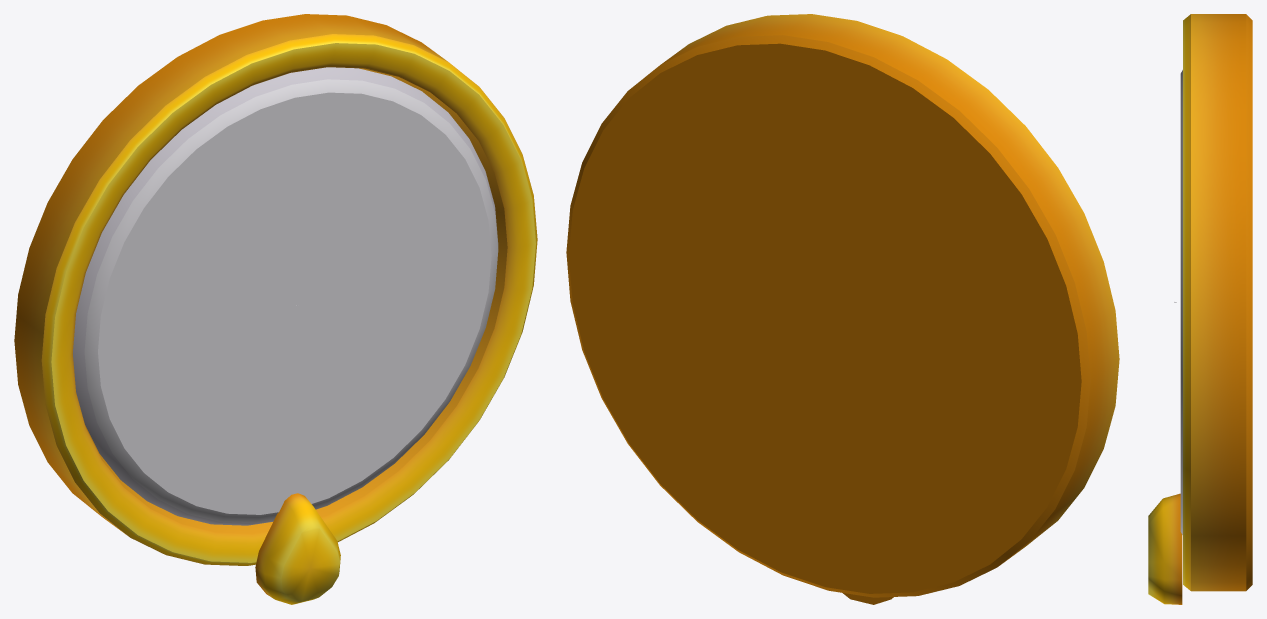
File: Dart_Board.fbx
3 views of the same model, side by side, from view 1: azimuth 30°, elevation 25°; view 2: azimuth 150°, elevation 25°; view 3: azimuth 270°, elevation 25° (orthographic). The views are drawn at different scales.
Visible parts, largest first — view 1: Dart_Board_Full, Dart_Board_Frame, Dart_Board_Pin; view 2: Dart_Board_Frame; view 3: Dart_Board_Frame, Dart_Board_Pin, Dart_Board_Full.
Part boxes in pixels (x1=…): Dart_Board_Full: x1=73, y1=67, x2=498, y2=525; Dart_Board_Frame: x1=14, y1=14, x2=537, y2=565; Dart_Board_Pin: x1=255, y1=493, x2=340, y2=604; Dart_Board_Frame: x1=566, y1=14, x2=1119, y2=597; Dart_Board_Frame: x1=1183, y1=14, x2=1252, y2=591; Dart_Board_Pin: x1=1148, y1=493, x2=1182, y2=604; Dart_Board_Full: x1=1180, y1=70, x2=1182, y2=534.
Size of the model in its own units: 258 by 275 by 46.37.
